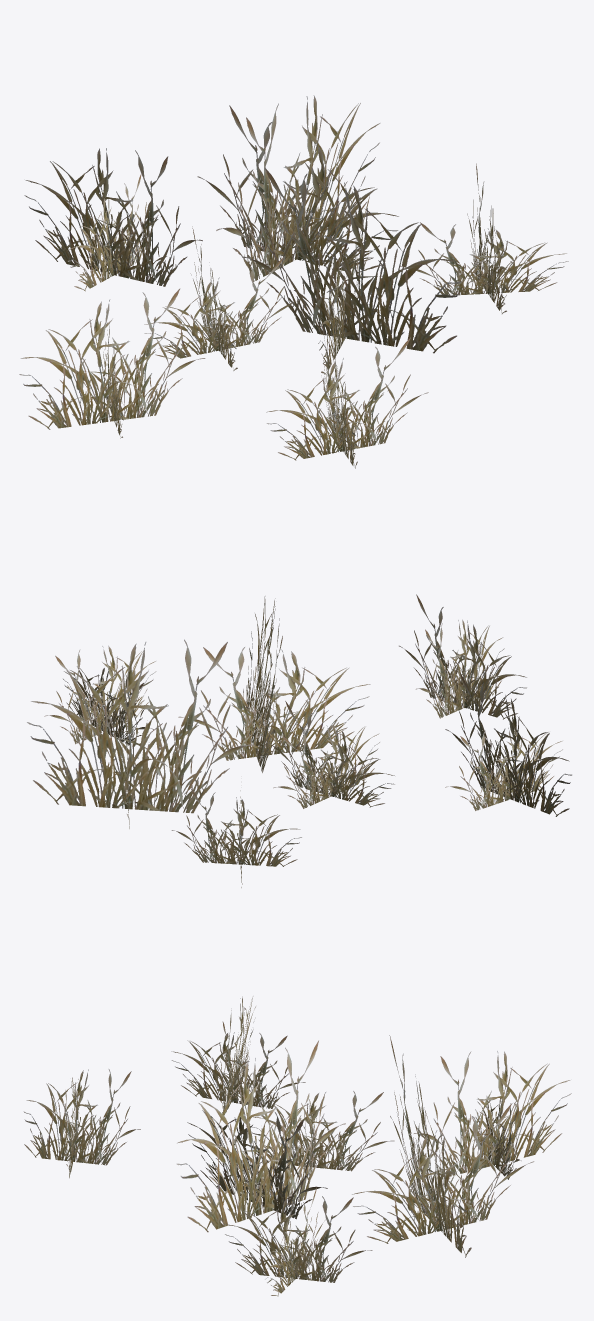
File: MountainGrass3B.fbx
The picture shows the model from 3 angles, top to bottom: view 1: azimuth 30°, elevation 25°; view 2: azimuth 150°, elevation 25°; view 3: azimuth 270°, elevation 25°; orthographic projection. The views are drawn at different scales.
Parts seen in each view (by area): view 1: MountainGrass3B; view 2: MountainGrass3B; view 3: MountainGrass3B.
Boxes of the visible parts, box(x1,y1,x2,y2) form: MountainGrass3B: box(19, 95, 568, 468); MountainGrass3B: box(27, 594, 571, 887); MountainGrass3B: box(23, 996, 571, 1296).
Size of the model in its own units: 259 by 116 by 253.
